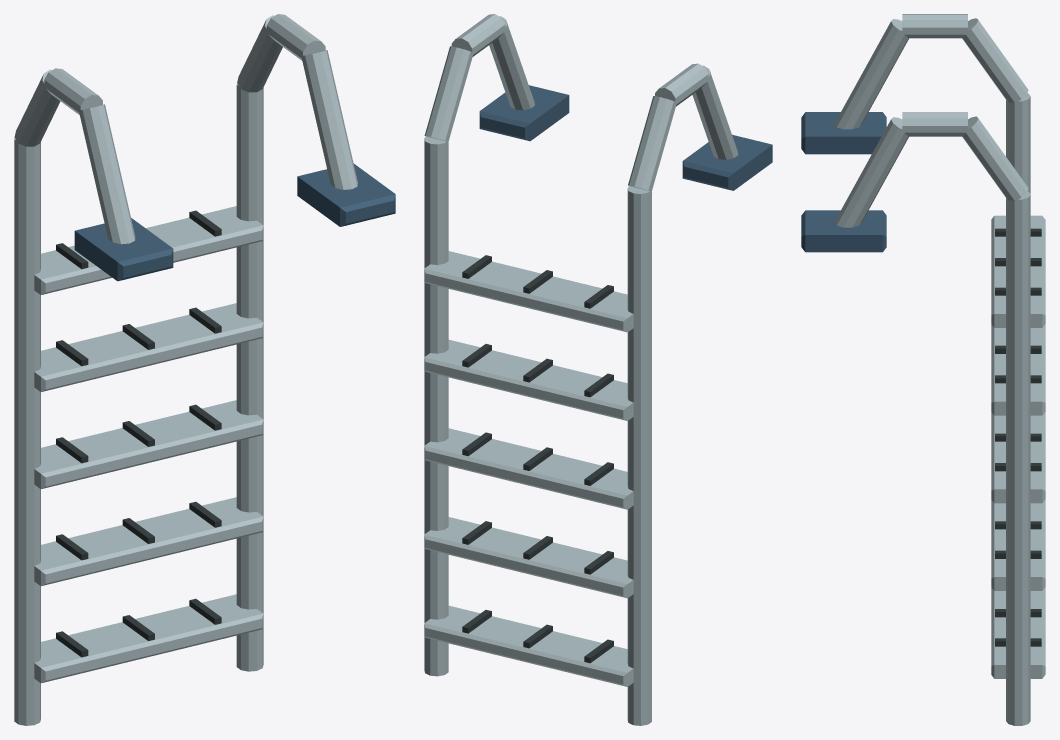
The model's file is harbor-and-tackle-harbor-ladder-e9cfd1c4__19560.glb.
The picture shows the model from 3 angles, left to right: view 1: azimuth 30°, elevation 25°; view 2: azimuth 150°, elevation 25°; view 3: azimuth 270°, elevation 25°; orthographic projection. The views are drawn at different scales.
Visible parts, largest first — view 1: metal, navy, rubber; view 2: metal, navy, rubber; view 3: metal, navy, rubber.
Boxes of the visible parts, <box> form: metal: <box>14,14,357,725</box>; navy: <box>74,163,395,281</box>; rubber: <box>56,210,221,657</box>; metal: <box>424,14,738,725</box>; navy: <box>479,85,772,190</box>; rubber: <box>462,255,613,663</box>; metal: <box>834,14,1045,725</box>; navy: <box>801,112,886,252</box>; rubber: <box>995,228,1041,646</box>.
Bounding box in the file's own units: 0.75 × 1.73 × 0.6301.
